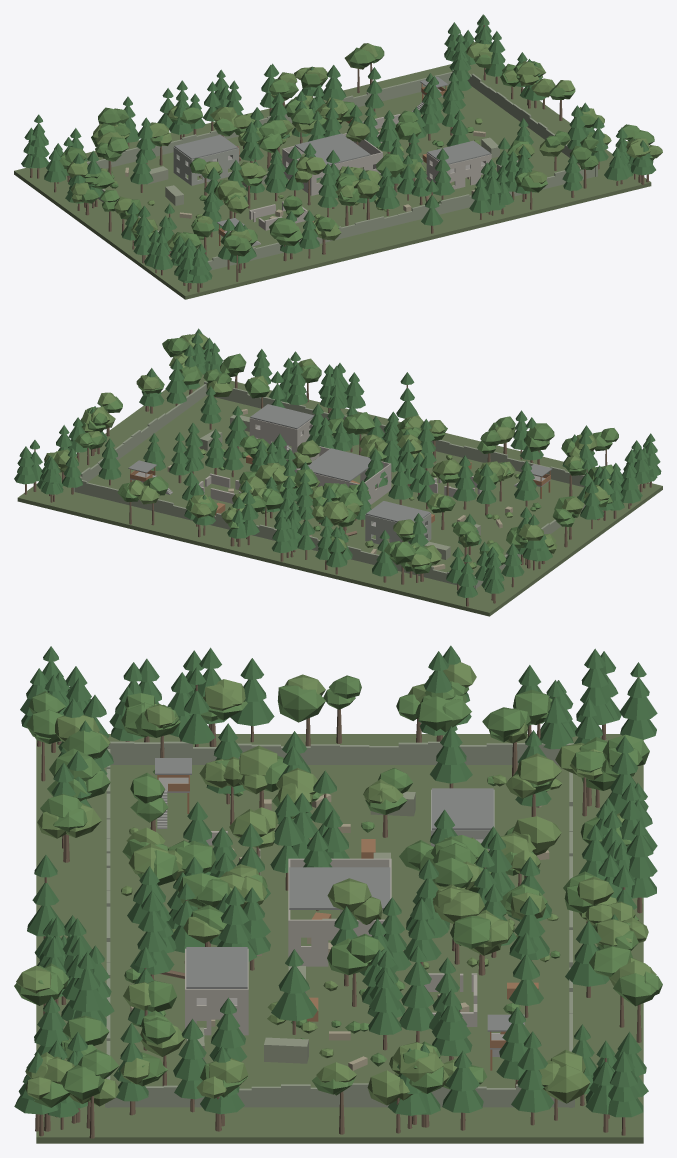
The model's file is tb_forest.glb.
The picture shows the model from 3 angles, top to bottom: view 1: azimuth 30°, elevation 25°; view 2: azimuth 150°, elevation 25°; view 3: azimuth 270°, elevation 25°; orthographic projection. The views are drawn at different scales.
Parts seen in each view (by area): view 1: Ground_2_2, Foliage_1_1, Foliage_2_2, Foliage_1_2, Foliage_2_1, Foliage_0_1, Buildings_2_1, Buildings_1_2, Foliage_3_2, Foliage_3_1, Foliage_0_2, Buildings_1_1 (+5 smaller); view 2: Ground_2_2, Foliage_1_1, Foliage_2_2, Foliage_1_2, Foliage_2_1, Foliage_0_1, Buildings_1_2, Buildings_2_2, Foliage_3_2, Foliage_0_2, Foliage_3_1, Buildings_2_1 (+5 smaller); view 3: Ground_2_2, Foliage_2_2, Foliage_1_1, Foliage_2_1, Foliage_1_2, Foliage_3_2, Foliage_0_1, Foliage_3_1, Foliage_0_2, Buildings_1_2, Buildings_2_1, Buildings_1_1 (+5 smaller).
Boxes of the visible parts, left/top/right/bottom form: Ground_2_2: left=14, top=64, right=651, bottom=299; Foliage_1_1: left=191, top=143, right=381, bottom=263; Foliage_2_2: left=260, top=33, right=482, bottom=151; Foliage_1_2: left=69, top=69, right=293, bottom=205; Foliage_2_1: left=374, top=110, right=598, bottom=225; Foliage_0_1: left=100, top=189, right=212, bottom=283; Buildings_2_1: left=353, top=140, right=597, bottom=233; Buildings_1_2: left=67, top=118, right=346, bottom=219; Foliage_3_2: left=444, top=14, right=575, bottom=100; Foliage_3_1: left=567, top=102, right=662, bottom=180; Foliage_0_2: left=21, top=114, right=114, bottom=203; Buildings_1_1: left=138, top=159, right=398, bottom=281; Ground_2_2: left=17, top=374, right=662, bottom=616; Foliage_1_1: left=359, top=410, right=618, bottom=520; Foliage_2_2: left=62, top=422, right=320, bottom=538; Foliage_1_2: left=271, top=472, right=494, bottom=583; Foliage_2_1: left=200, top=349, right=418, bottom=458; Foliage_0_1: left=552, top=433, right=661, bottom=526; Buildings_1_2: left=273, top=454, right=520, bottom=590; Buildings_2_2: left=71, top=448, right=354, bottom=546; Foliage_3_2: left=14, top=392, right=122, bottom=494; Foliage_0_2: left=456, top=507, right=557, bottom=597; Foliage_3_1: left=136, top=328, right=223, bottom=406; Buildings_2_1: left=204, top=376, right=407, bottom=461; Ground_2_2: left=36, top=734, right=643, bottom=1143; Foliage_2_2: left=327, top=848, right=662, bottom=1094; Foliage_1_1: left=26, top=691, right=349, bottom=910; Foliage_2_1: left=14, top=855, right=341, bottom=1061; Foliage_1_2: left=361, top=698, right=657, bottom=932; Foliage_3_2: left=312, top=1031, right=648, bottom=1117; Foliage_0_1: left=20, top=646, right=361, bottom=744; Foliage_3_1: left=14, top=1019, right=248, bottom=1117; Foliage_0_2: left=396, top=645, right=657, bottom=749; Buildings_1_2: left=289, top=741, right=642, bottom=914; Buildings_2_1: left=43, top=877, right=328, bottom=1107; Buildings_1_1: left=41, top=735, right=339, bottom=918.
Size of the model in its own units: 139 by 16.51 by 89.76.
